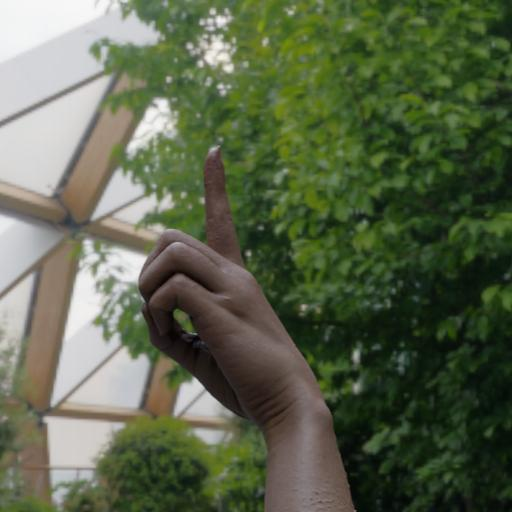D: (127, 139, 338, 428)
